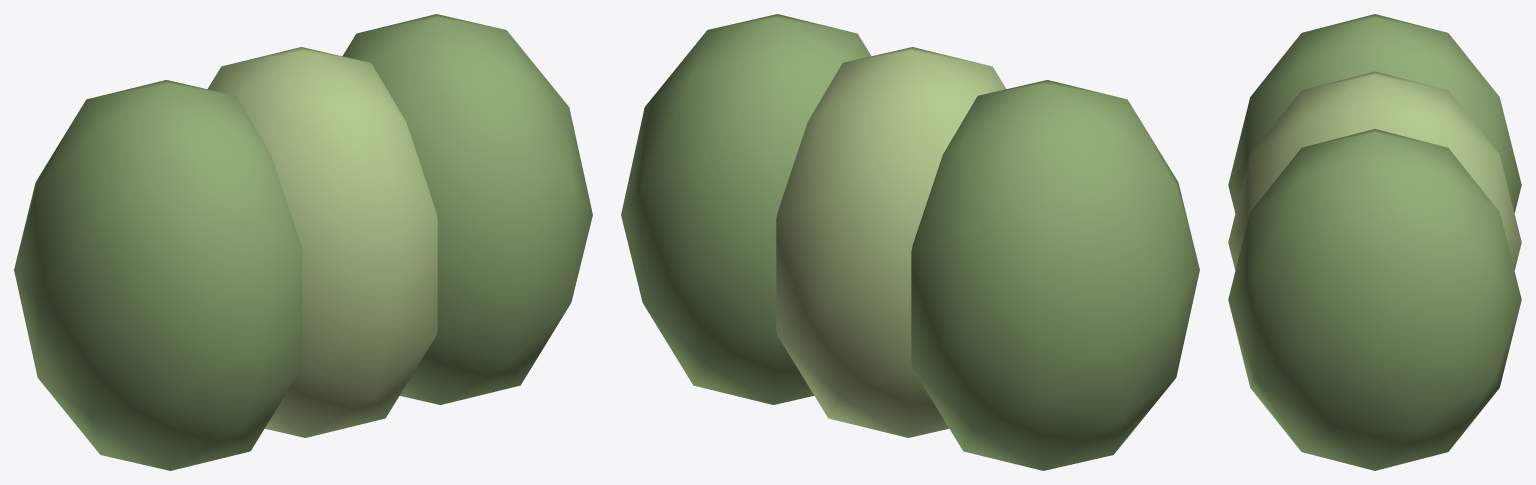
File: hedge.glb
3 renders of one model, left to right at view 1: azimuth 30°, elevation 25°; view 2: azimuth 150°, elevation 25°; view 3: azimuth 270°, elevation 25°, orthographic. The views are drawn at different scales.
Parts seen in each view (by area): view 1: surface_#8da970, surface_#b0c58a; view 2: surface_#8da970, surface_#b0c58a; view 3: surface_#8da970, surface_#b0c58a.
Boxes of the visible parts, left/top/right/bottom form: surface_#8da970: left=14, top=14, right=592, bottom=470; surface_#b0c58a: left=207, top=47, right=437, bottom=437; surface_#8da970: left=621, top=14, right=1199, bottom=470; surface_#b0c58a: left=776, top=47, right=1006, bottom=437; surface_#8da970: left=1228, top=14, right=1521, bottom=470; surface_#b0c58a: left=1228, top=71, right=1521, bottom=270.
Size of the model in its own units: 2.35 by 1.63 by 1.3.
